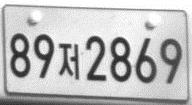2: (85, 35, 107, 81)
6: (134, 37, 157, 83)
8: (110, 36, 132, 83), (10, 32, 30, 78)
9: (160, 37, 183, 85), (33, 33, 54, 77)
저: (57, 42, 79, 80)
